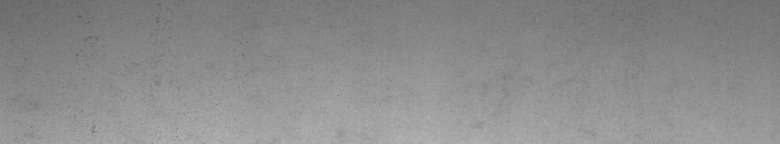ib: (78, 16, 168, 133)
